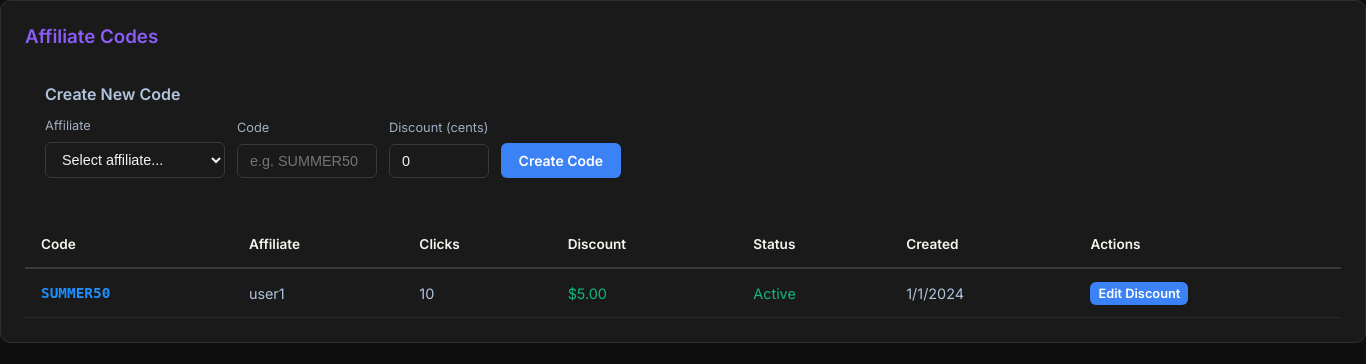
Scenario: CodesTab › enables edit discount mode
Expected: the text "SUMMER50" is shown, x1=25 y1=268 x2=233 y2=318
Click the button "Edit Discount": (1139, 294) x1=1090 y1=282 x2=1188 y2=305
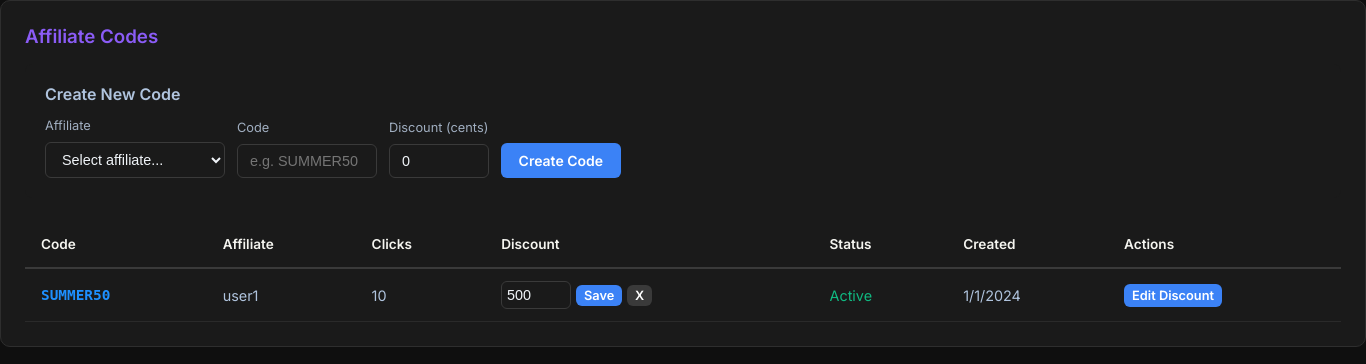
Expected: the number field showing "500" in the row of "SUMMER50" is shown, x1=501 y1=281 x2=571 y2=309
